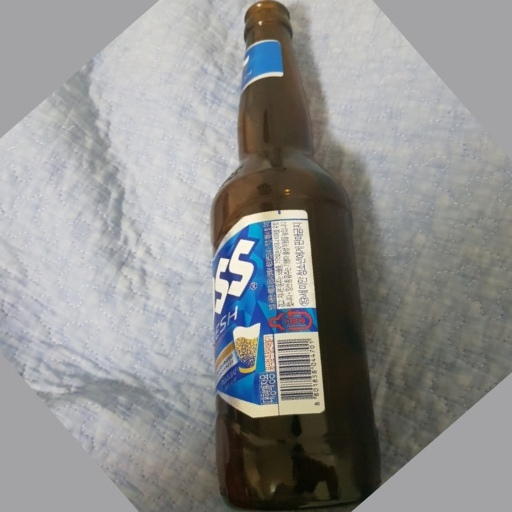Glass_1: (206, 1, 384, 509)
